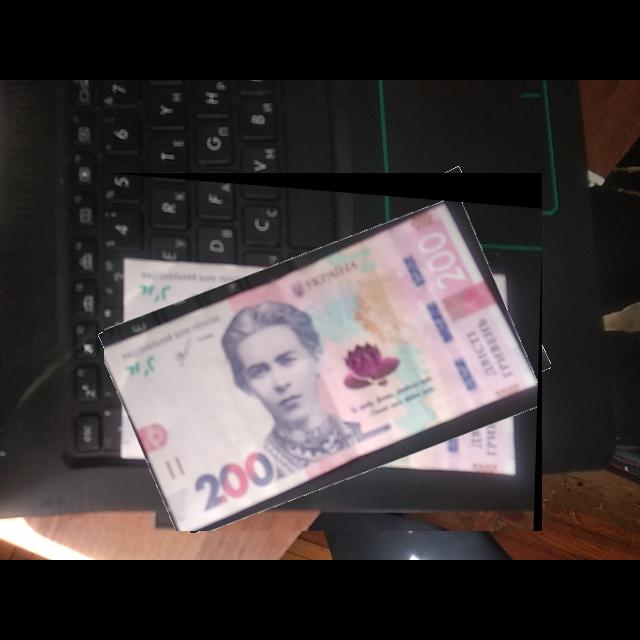200uah: (104, 195, 539, 532)
